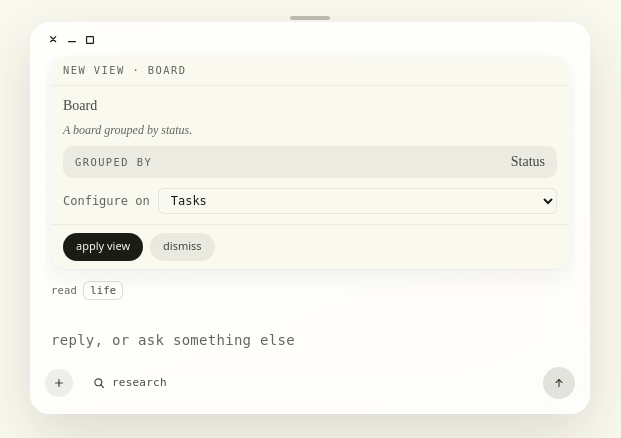
Test: AITerminal — configure_view proposal card › Accept writes via configureViewFromProposal and settles the card
Expected: the text box named "Message Pond" is enabled, 45,328 -> 575,353
What coordinates should you click on to do the following:
click the button "Apply view"
I would click on:
 (103, 247)
Its box is 63,233 -> 143,261.
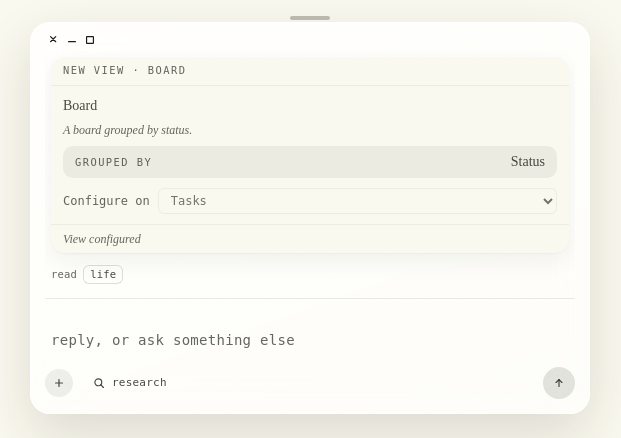
Expected: the text "View configured" is shown, 51,224 -> 569,253
